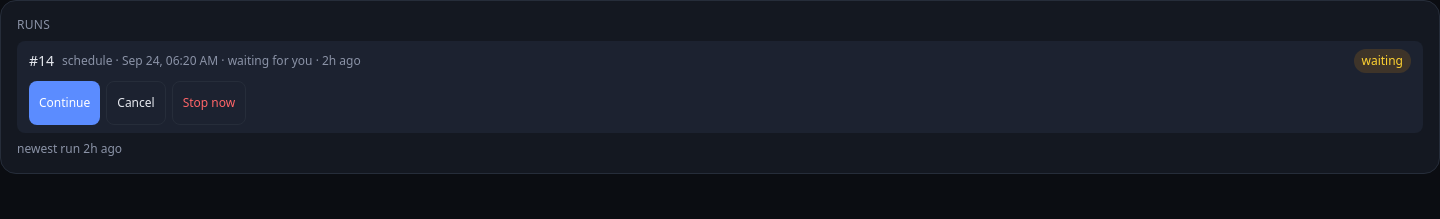
Test: RunsPanel controls › surfaces the upstream refusal inline
Click the button "Cancel". click: (136, 103)
box: x1=106 y1=81 x2=166 y2=125
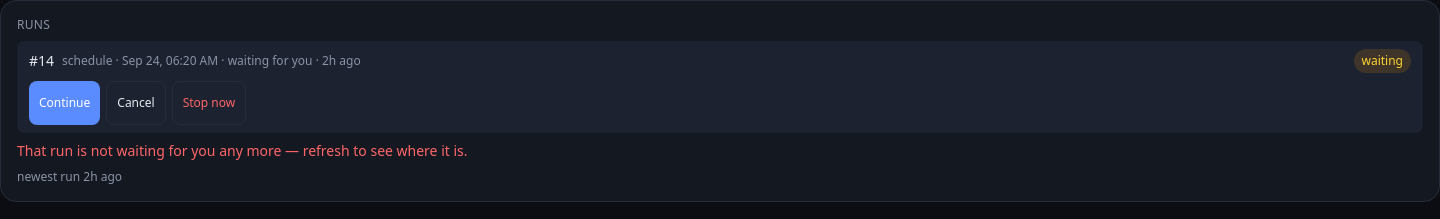
Expected: the message shows "not waiting for you any more", x1=17 y1=141 x2=468 y2=160
